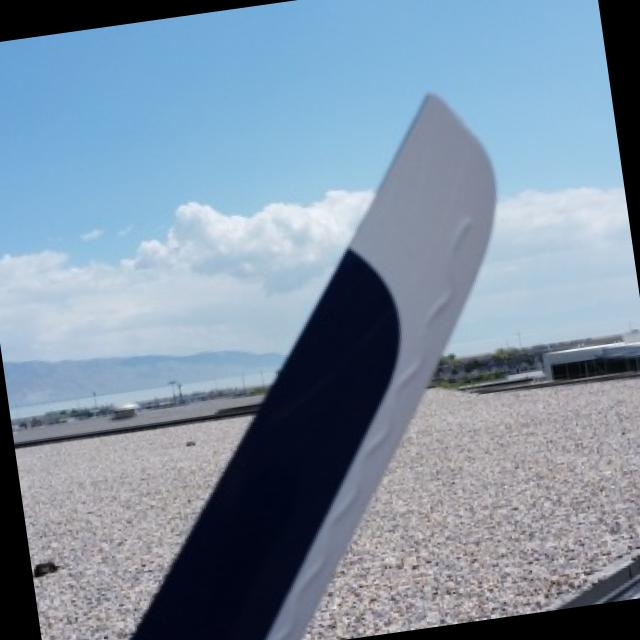healthy: (132, 95, 498, 640)
